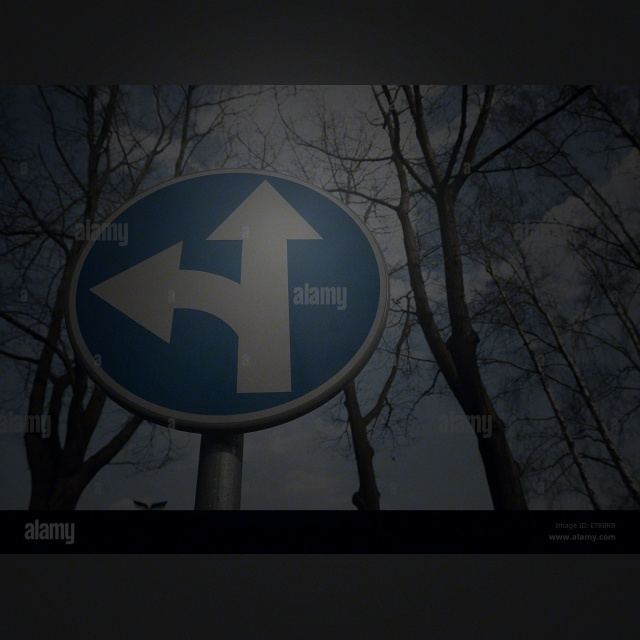Compulsory_Ahead_or_Turn_Left: (59, 164, 387, 426)
